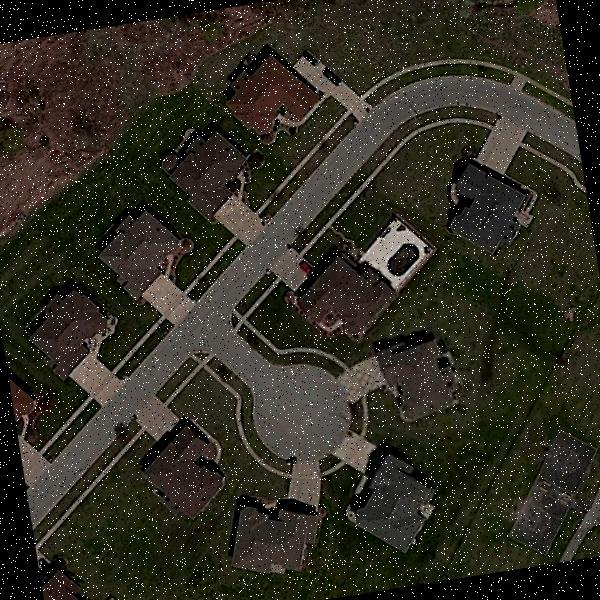Buildings: (129, 420, 234, 522), (439, 155, 540, 253), (291, 244, 389, 344), (223, 494, 328, 580), (25, 284, 113, 384), (374, 326, 464, 420), (347, 460, 437, 546), (100, 208, 182, 302), (226, 48, 311, 131), (174, 134, 238, 211), (9, 379, 46, 430), (40, 568, 89, 600)
